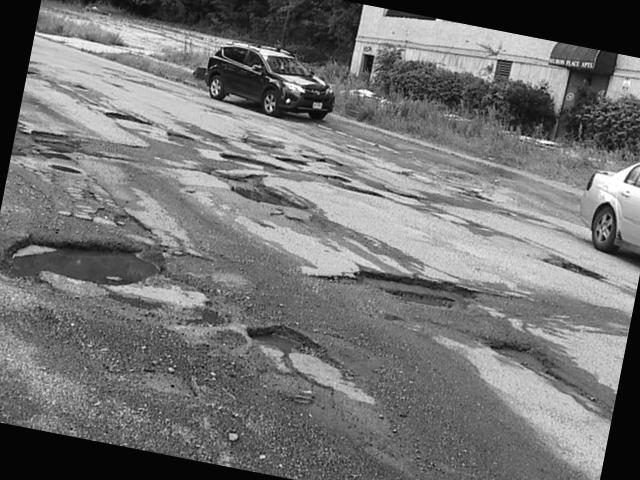Pothole: (324, 230, 496, 338), (0, 216, 181, 314), (228, 306, 364, 410), (475, 330, 609, 424), (196, 154, 318, 232), (210, 136, 286, 189), (541, 246, 606, 298), (278, 138, 342, 182), (312, 169, 392, 201)
